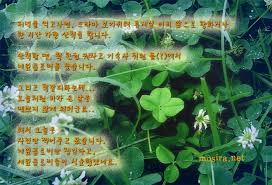4-clover: (139, 89, 187, 126)
